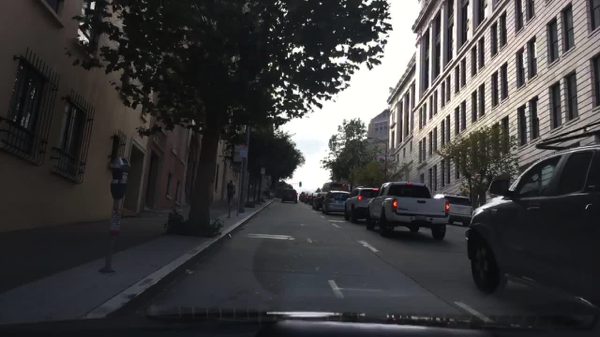bus: (322, 183, 347, 195)
car: (462, 120, 599, 312), (430, 191, 474, 228), (343, 185, 380, 223), (322, 191, 350, 217), (310, 191, 330, 212), (279, 188, 298, 204), (310, 187, 322, 204), (303, 192, 314, 204), (299, 192, 308, 202)
traffic light: (299, 182, 302, 187)
traffic sign: (240, 145, 246, 157), (260, 166, 265, 175)
truck: (364, 180, 451, 242)
